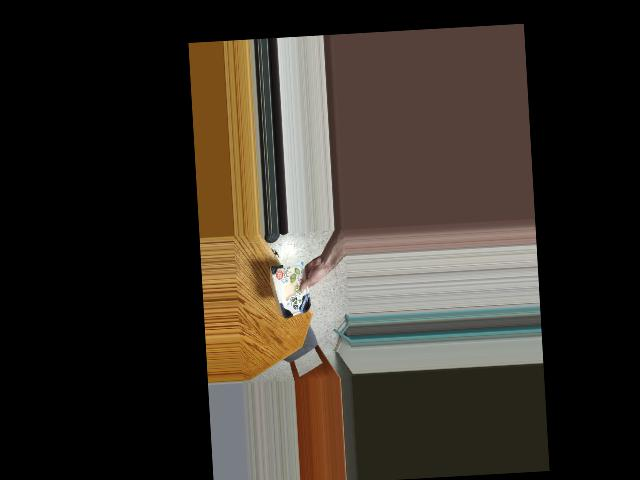cheese: (270, 270, 316, 312)
